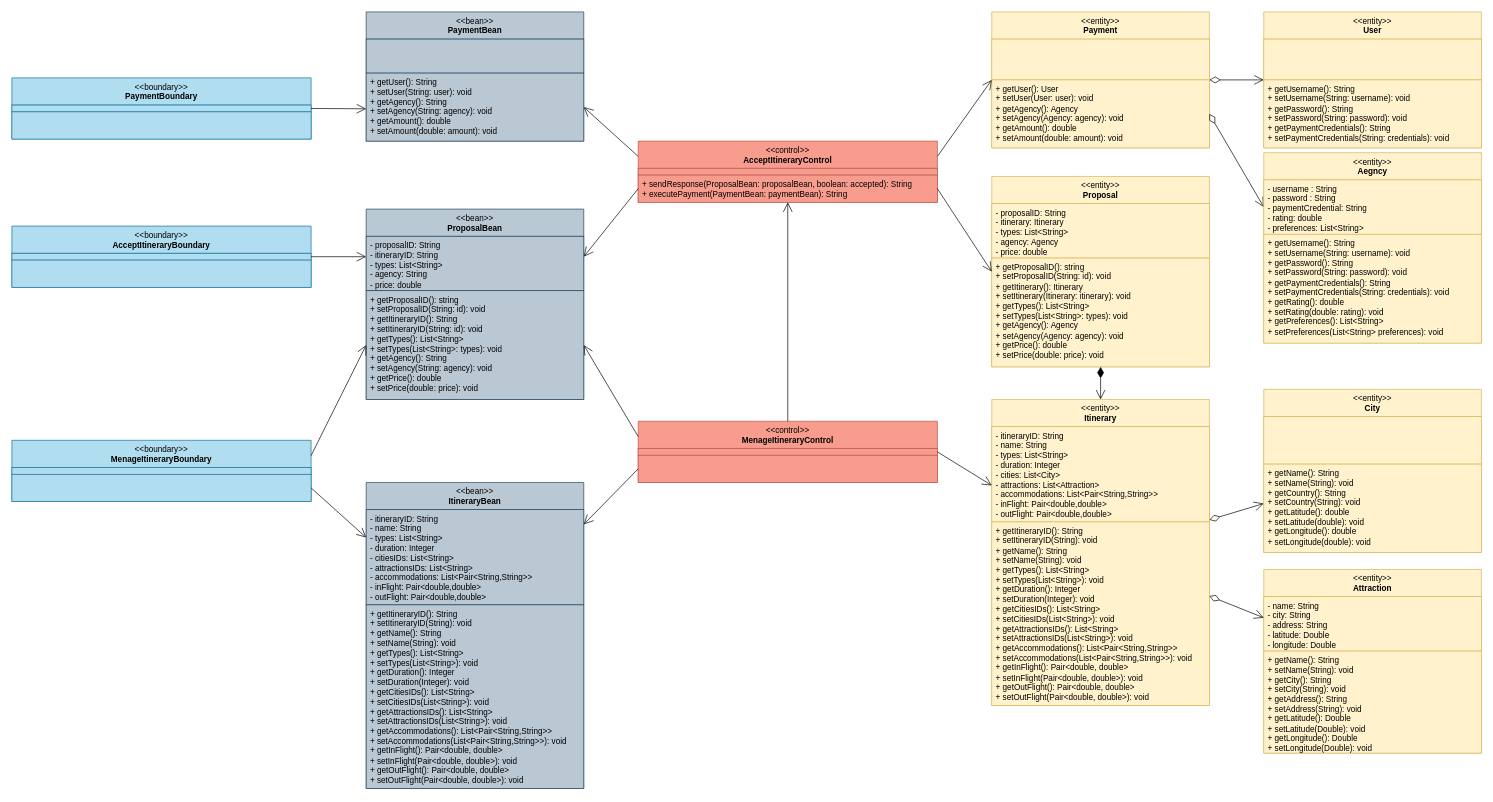
The diagram is 1493 pixels wide and 802 high, and some of its shapes have lost their labels. The shapes that lost their labels are listed below. From the top down, each one's centre as x and y in pixels, then its label:
At point (475, 55): "- user: String - agency: String - amount: double".
At point (1100, 59): "- user: User - agency: Agency - amount: double".
At point (1372, 59): "- username : String - password : String - paymentCredential: String".
At point (161, 125): "+ showForm() + pay()".
At point (161, 273): "+ acceptItinerary() + rejectItinerary()".
At point (1372, 440): "- name: String - country: String - latitude: double - longitude: double".
At point (161, 488): "+ showItinerary(String: itineraryID) + showProposal(String: proposalID)".
At point (787, 468): "+ getItineraries(): List<ItineraryBean> + getProposals(): List<ProposalBean>".
